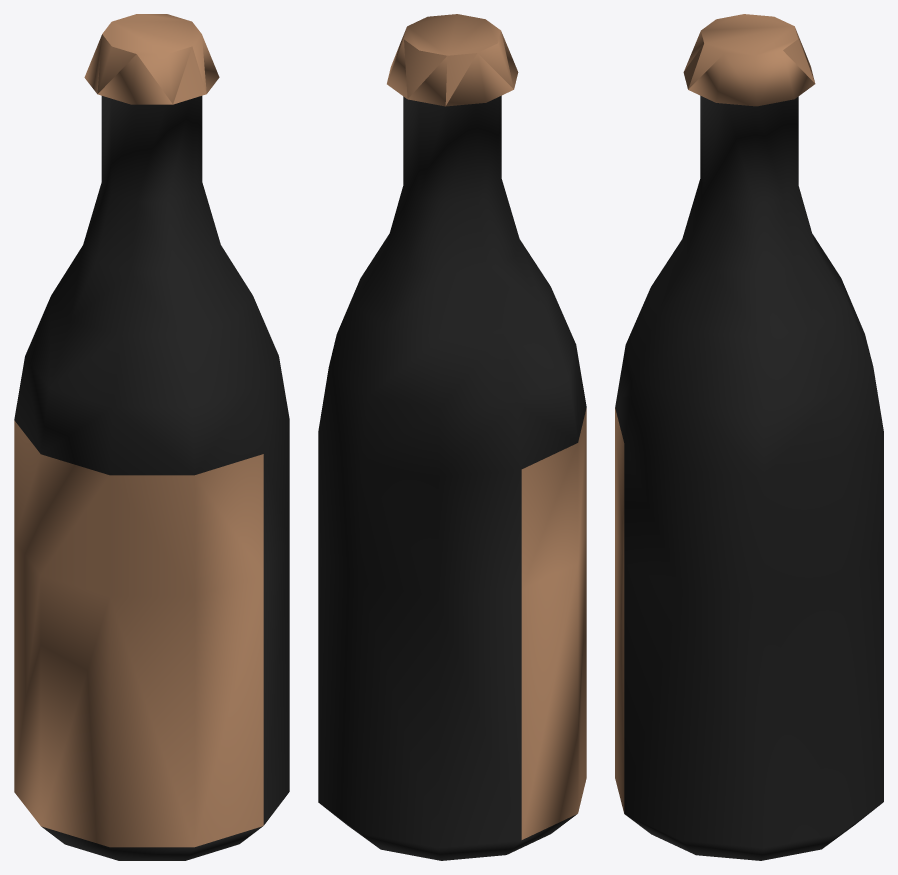
The model's file is bottle.glb.
3 views of the same model, side by side, from view 1: azimuth 30°, elevation 25°; view 2: azimuth 150°, elevation 25°; view 3: azimuth 270°, elevation 25° (orthographic).
Parts seen in each view (by area): view 1: bottle; view 2: bottle; view 3: bottle.
Part boxes in pixels (box(x1,y1,x2,y2)): bottle: box(14, 14, 289, 860); bottle: box(318, 14, 586, 860); bottle: box(615, 14, 883, 860).
Bounding box in the file's own units: 0.0792 × 0.25 × 0.078.
